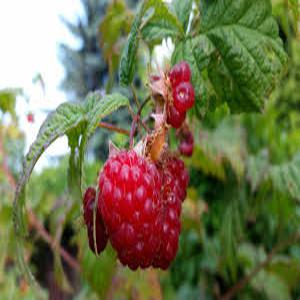raspb: (98, 136, 184, 270)
